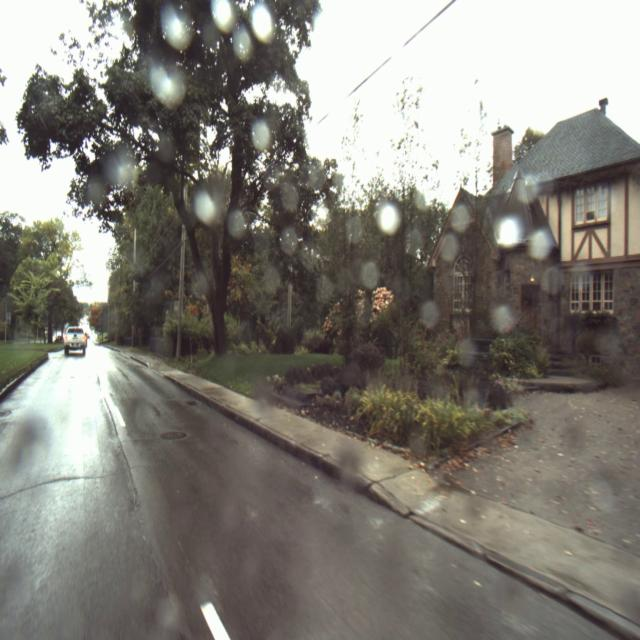car: (63, 327, 87, 359)
